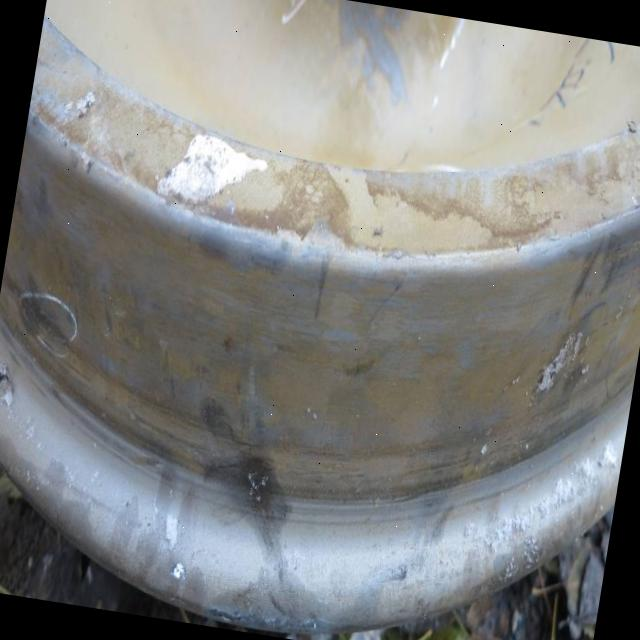Brake_Thermal_Cracks: (312, 238, 334, 329)
